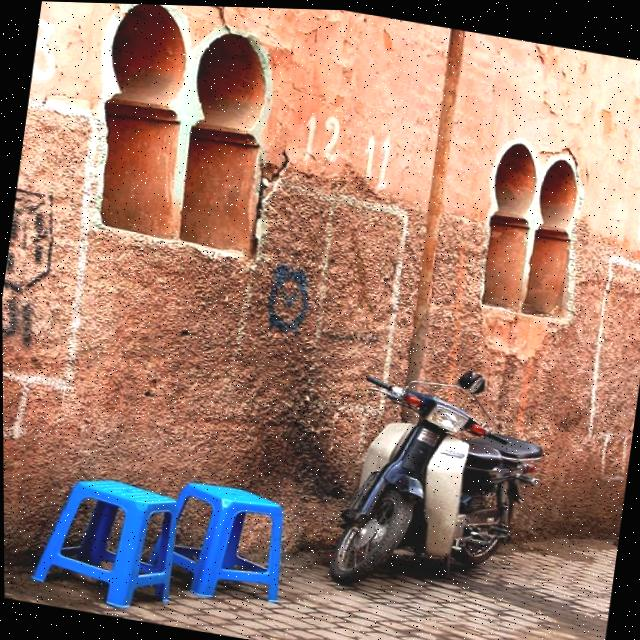motorcycle: (316, 347, 561, 615)
